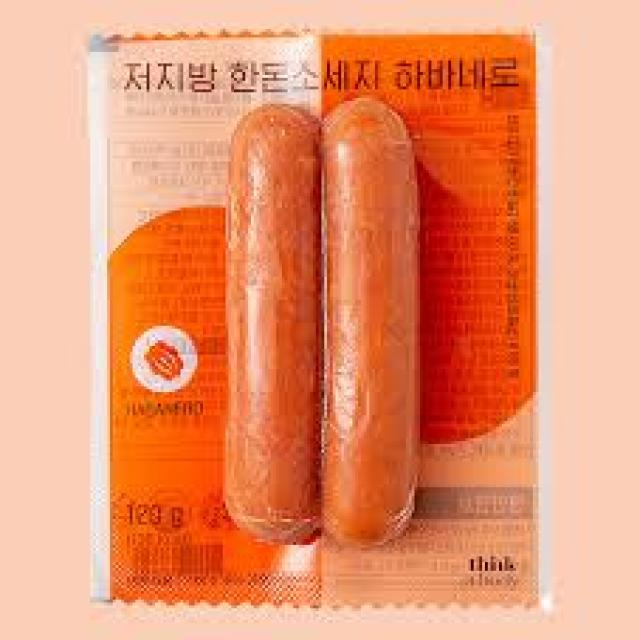sausage: (172, 81, 479, 556)
